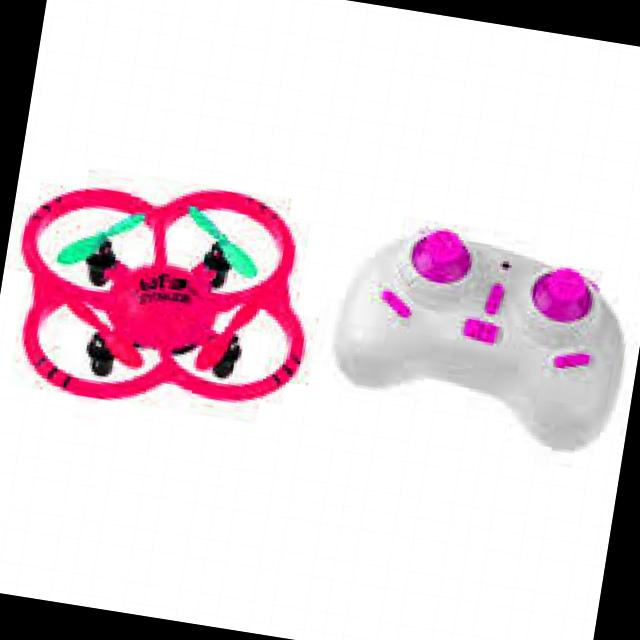drone: (0, 127, 359, 456)
